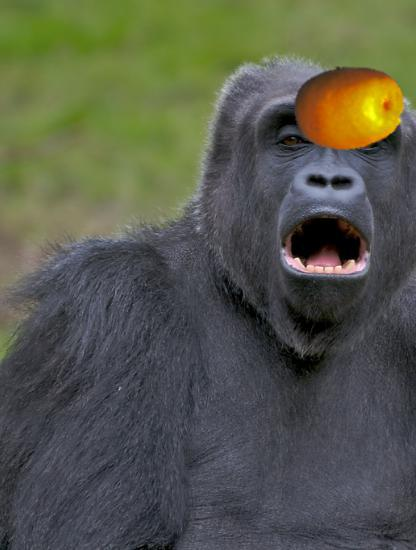Kumquats: (292, 52, 406, 166)
